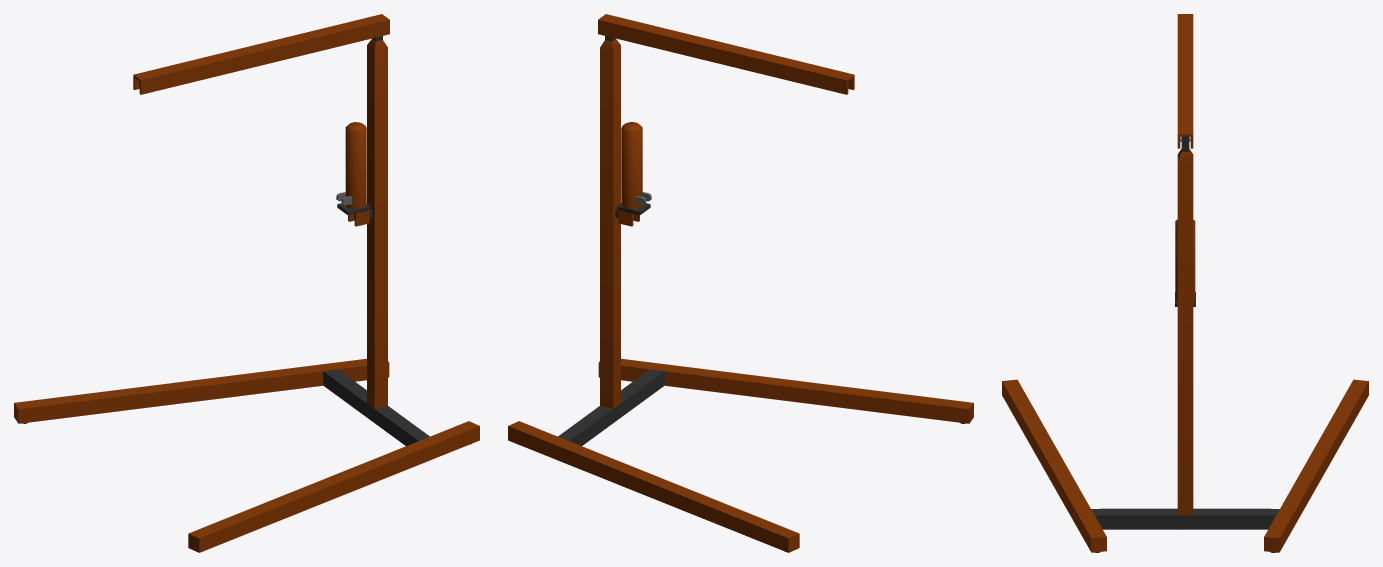
File: CraneForEngine.fbx
The picture shows the model from 3 angles, left to right: view 1: azimuth 30°, elevation 25°; view 2: azimuth 150°, elevation 25°; view 3: azimuth 270°, elevation 25°; orthographic projection.
Visible parts, largest first — view 1: CraneFrame, CraneArm, HydraulicBody; view 2: CraneFrame, CraneArm, HydraulicBody; view 3: CraneFrame, CraneArm, HydraulicBody.
Part boxes in pixels (box(x1,y1,x2,y2)): CraneFrame: box(14, 36, 479, 552); CraneArm: box(133, 14, 389, 94); HydraulicBody: box(336, 122, 370, 226); CraneFrame: box(508, 36, 973, 552); CraneArm: box(598, 14, 854, 94); HydraulicBody: box(617, 122, 651, 226); CraneFrame: box(1002, 136, 1368, 552); CraneArm: box(1177, 14, 1193, 148); HydraulicBody: box(1175, 219, 1195, 306).
Size of the model in its own units: 142 by 167 by 139.
